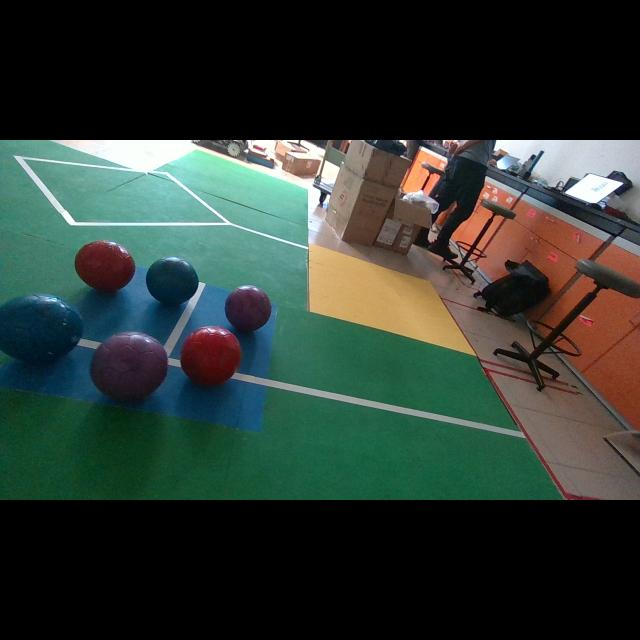B: (0, 294, 84, 361), (148, 256, 199, 305)
P: (90, 331, 168, 401), (225, 285, 271, 331)
R: (180, 326, 241, 384), (75, 240, 135, 292)
